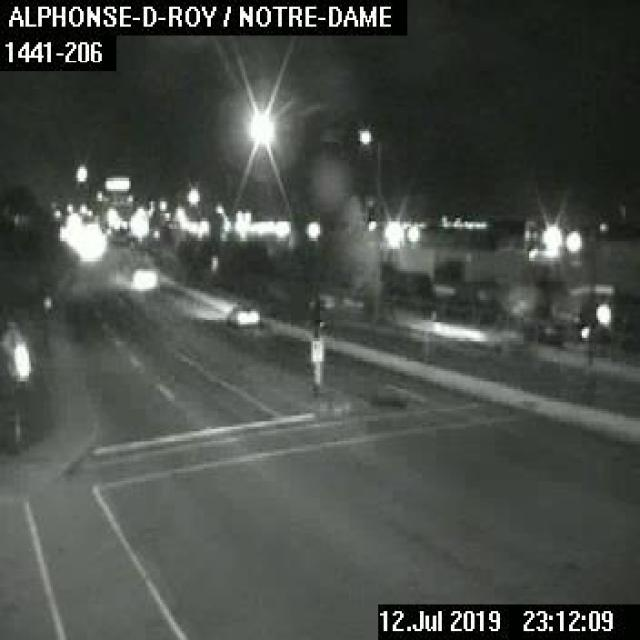vehicle: (124, 264, 158, 294), (224, 298, 262, 324)
